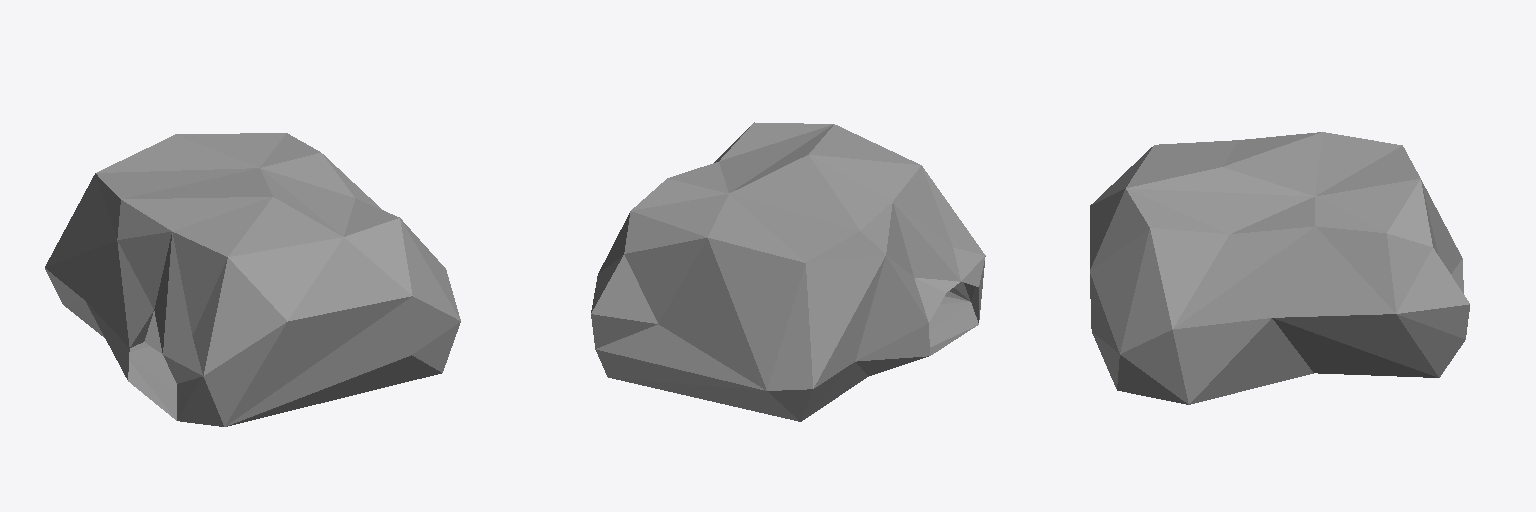
File: Mesh_CavePack_Room_Square_End_Large_lod2.obj
3 renders of one model, left to right at view 1: azimuth 30°, elevation 25°; view 2: azimuth 150°, elevation 25°; view 3: azimuth 270°, elevation 25°, orthographic.
Parts seen in each view (by area): view 1: Plane.016; view 2: Plane.016; view 3: Plane.016.
Part boxes in pixels (x1,y1,x2,y2): Plane.016: (45, 133, 460, 426); Plane.016: (591, 122, 985, 421); Plane.016: (1090, 132, 1469, 404).
Size of the model in its own units: 32.88 by 18.03 by 37.37.